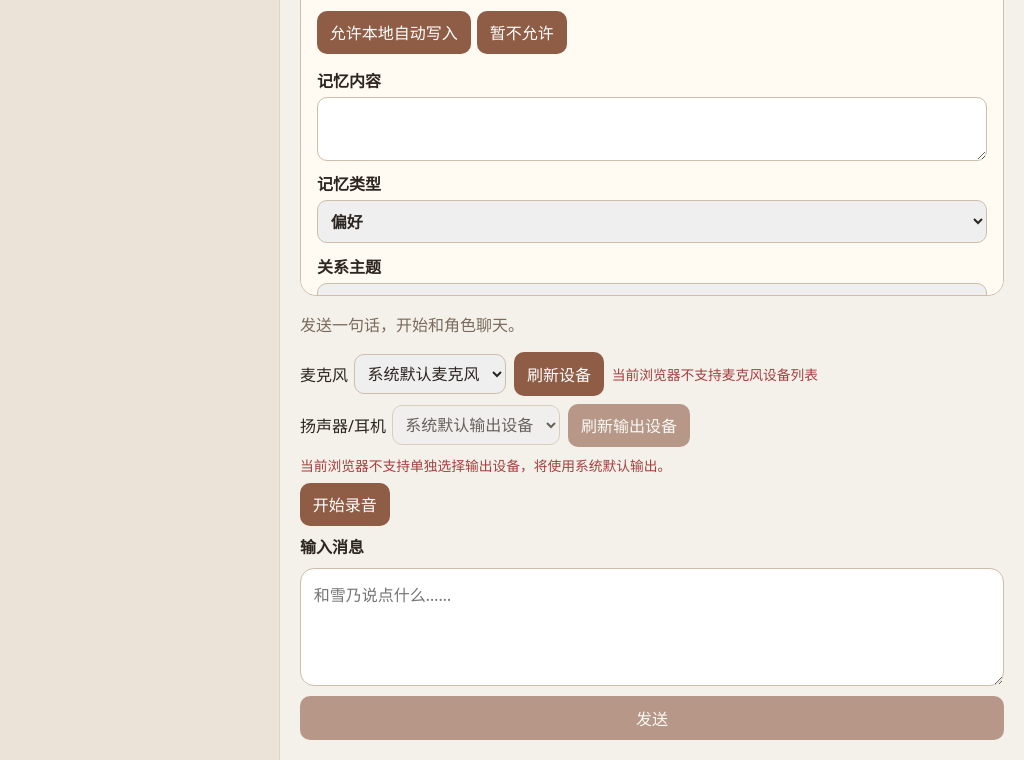
Test case: App › cancel recording stops VAD and does not upload after later speech end
(page scrolled)
What coordinates should you click on to do the following:
click the button "开始录音"
I would click on:
 (345, 504)
Its box is [300,483,390,526].
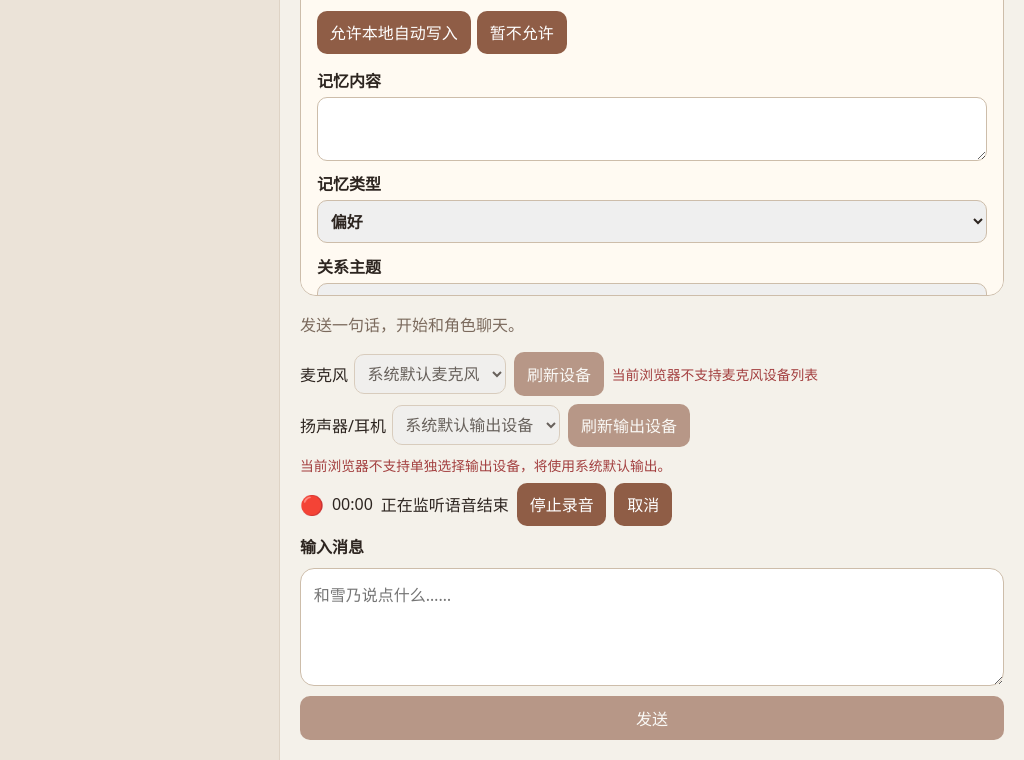
What coordinates should you click on to do the following:
click the button with aria-label "取消录音"
I would click on:
 (643, 504)
Its box is [614,483,672,526].
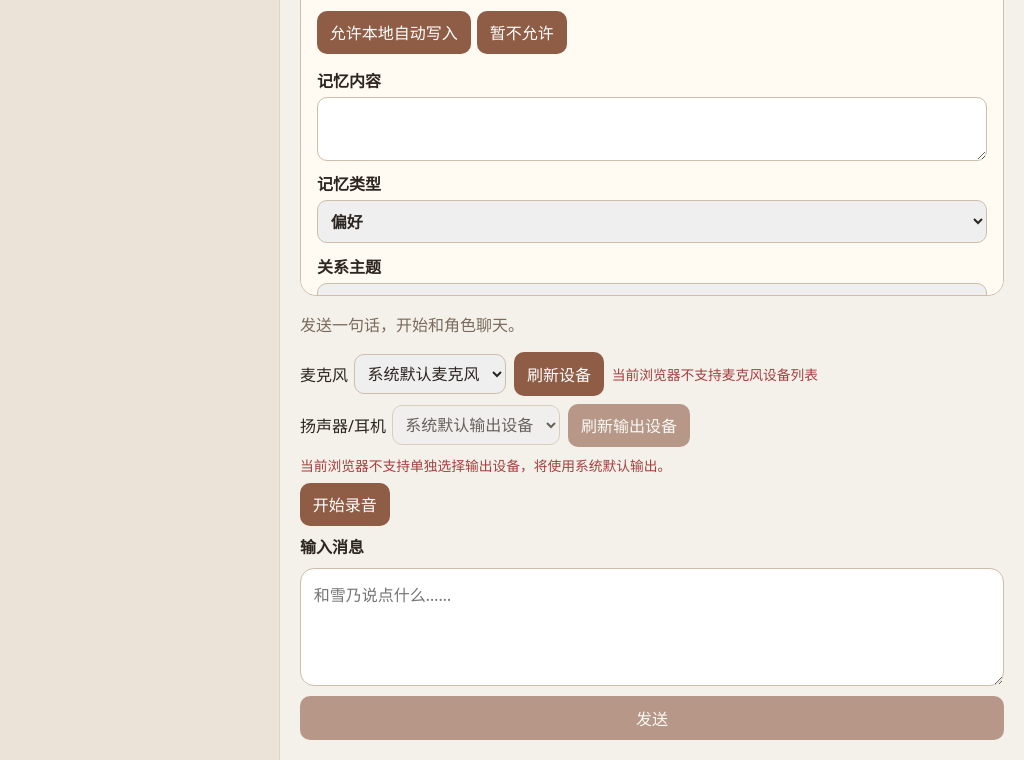
expect the button "开始录音" is shown: met, box [300,483,390,526]
